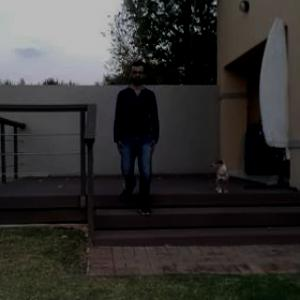follow: (112, 57, 154, 226)
